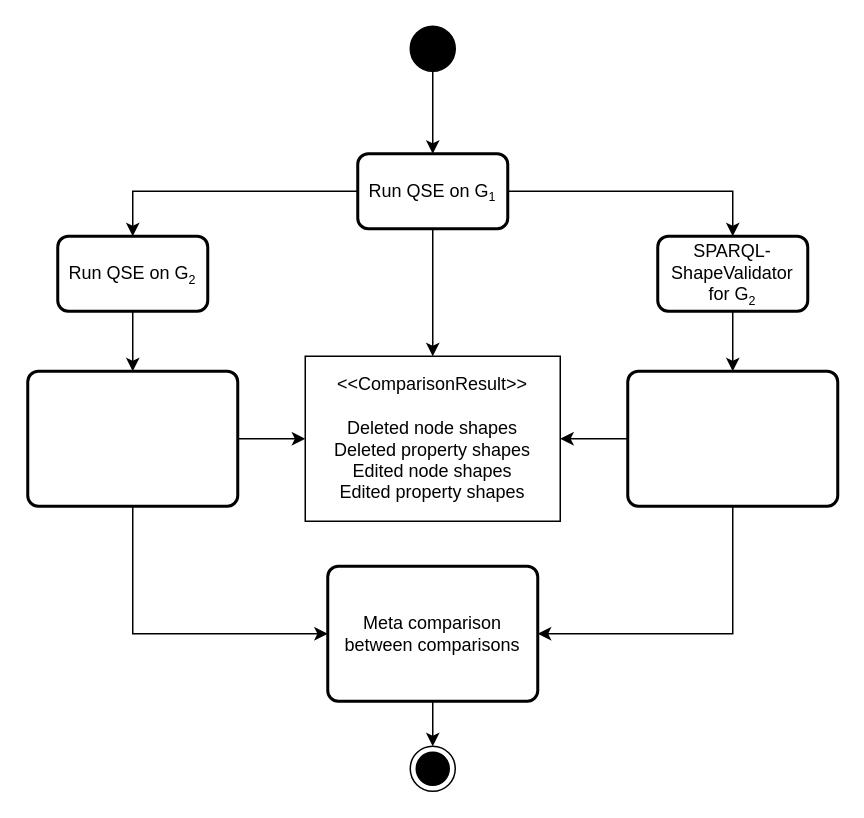
Some shapes in this 864 by 818 pixel diagram are drawn without their labels. The shapes that lost their labels are listed below. From the top down, each one's box as (x1, y1, x2, y2) in pixels, then its label:
(26, 369, 238, 507): Compare QSE SHACL shapes from G 1 and G 2
(626, 369, 838, 507): Compare SHACL shapes from QSE on G 1 and SPARQL-ShapeValidator for G 2
